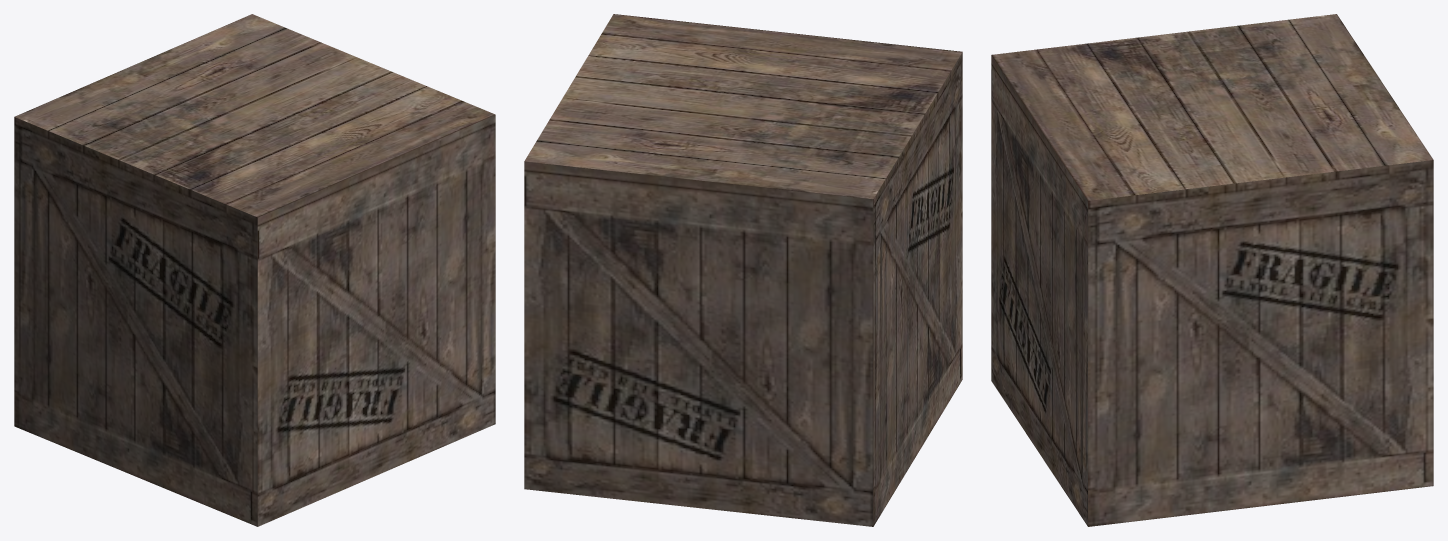
File: Wooden_box_v1_LD1square (16).glb
The picture shows the model from 3 angles, left to right: view 1: azimuth 30°, elevation 25°; view 2: azimuth 150°, elevation 25°; view 3: azimuth 270°, elevation 25°; orthographic projection. The views are drawn at different scales.
Parts seen in each view (by area): view 1: Wooden_box_v1_LD1square (16); view 2: Wooden_box_v1_LD1square (16); view 3: Wooden_box_v1_LD1square (16).
Part boxes in pixels (bbox=[...]): Wooden_box_v1_LD1square (16): bbox=[14, 14, 495, 526]; Wooden_box_v1_LD1square (16): bbox=[524, 14, 962, 526]; Wooden_box_v1_LD1square (16): bbox=[991, 14, 1433, 526].
Size of the model in its own units: 0.9986 by 0.8124 by 0.9986.
1 material, 1 textured.
